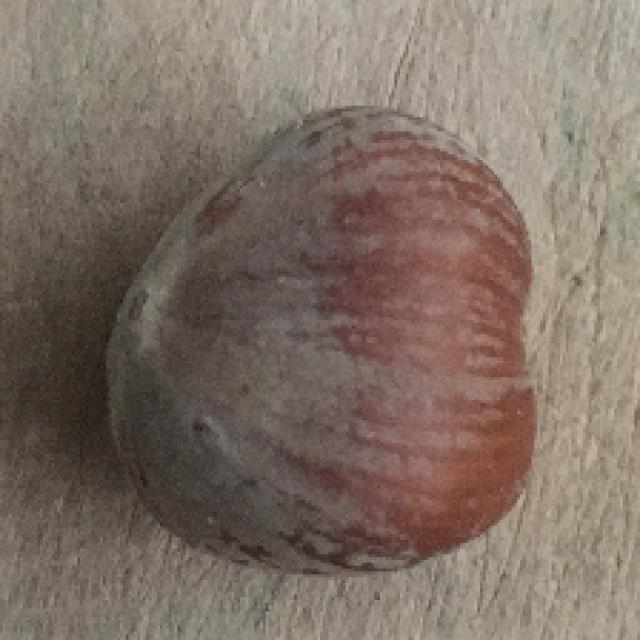qualityHazelnut: (90, 108, 556, 575)
